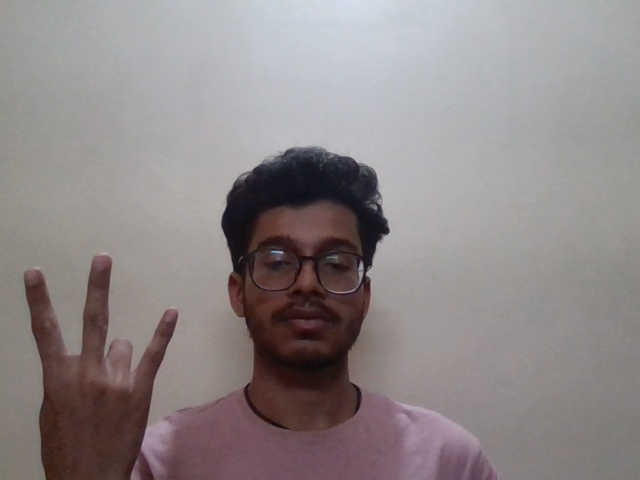why: (22, 247, 191, 424)
